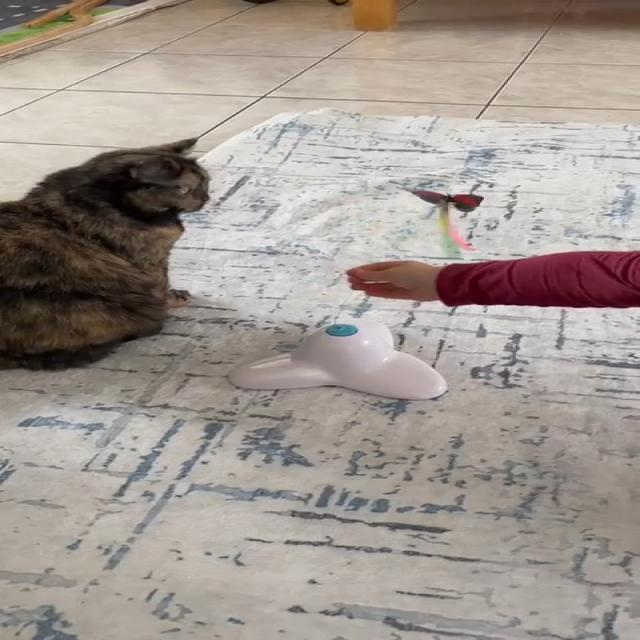authorized: (0, 136, 211, 371)
